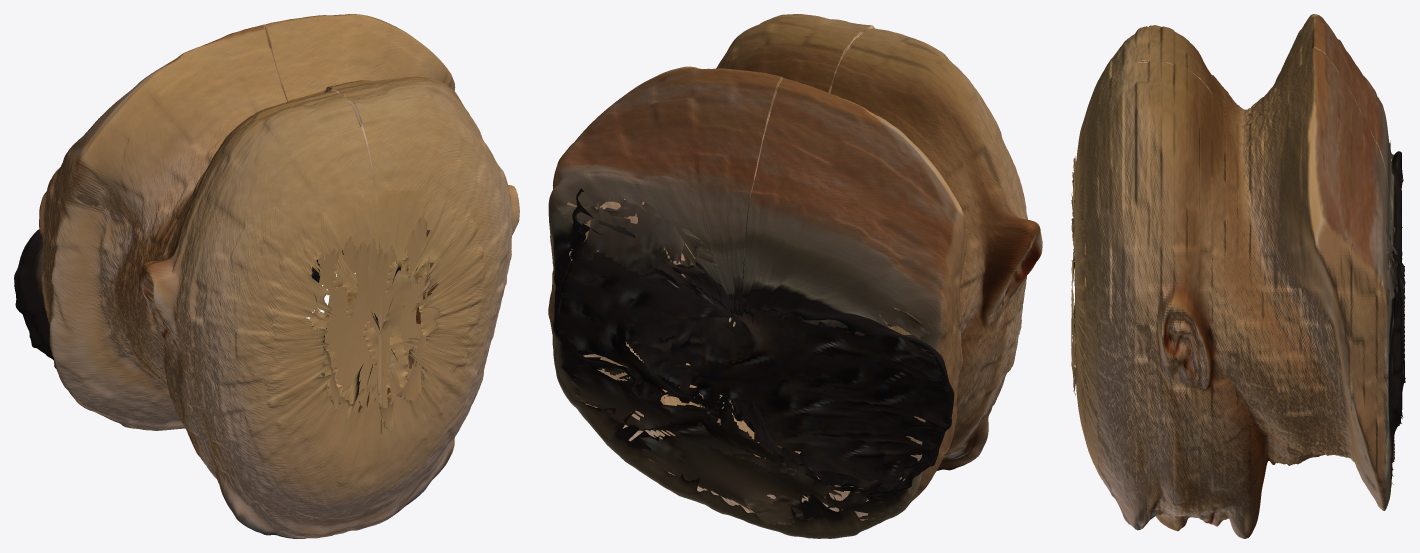
The model's file is mesh_inpaint.glb.
3 views of the same model, side by side, from view 1: azimuth 30°, elevation 25°; view 2: azimuth 150°, elevation 25°; view 3: azimuth 270°, elevation 25° (orthographic). The views are drawn at different scales.
Visible parts, largest first — view 1: ipn, fill; view 2: ipn, fill; view 3: ipn, fill.
Part boxes in pixels (x1,y1,x2,y2): ipn: [14, 14, 519, 538]; fill: [75, 193, 442, 431]; ipn: [548, 14, 1042, 538]; fill: [555, 198, 951, 525]; ipn: [1073, 14, 1401, 538]; fill: [1071, 140, 1405, 484].
Bounding box in the file's own units: 1.88 × 1.96 × 1.24.
Materials: 2 (1 with a texture image).
